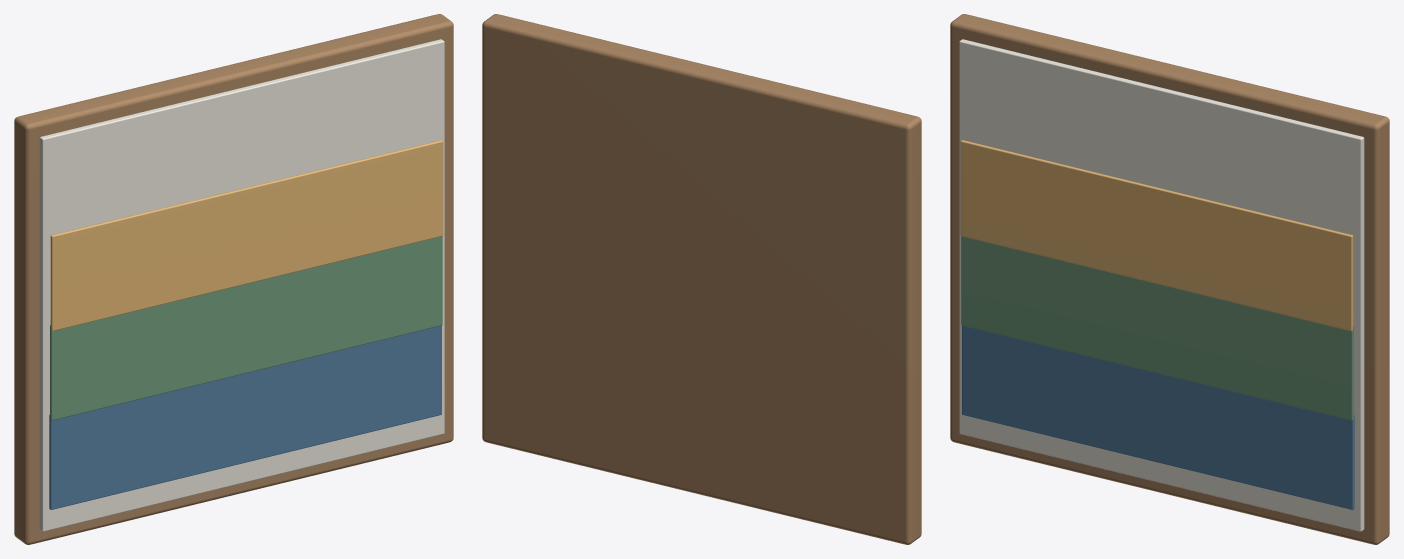
The model's file is atelier-art-print.glb.
3 renders of one model, left to right at view 1: azimuth 30°, elevation 25°; view 2: azimuth 150°, elevation 25°; view 3: azimuth 330°, elevation 25°, orthographic.
Visible parts, largest first — view 1: ceramic.024, artGold.006, artBlue.007, artGreen.007, legs.116; view 2: legs.116; view 3: ceramic.024, artGold.006, artBlue.007, artGreen.007, legs.116.
Boxes of the visible parts, box(x1,y1,x2,y2) form: ceramic.024: box(39, 39, 444, 531); artGold.006: box(50, 140, 443, 331); artBlue.007: box(49, 325, 441, 509); artGreen.007: box(50, 236, 442, 420); legs.116: box(14, 14, 453, 544); legs.116: box(482, 14, 921, 544); ceramic.024: box(959, 39, 1364, 531); artGold.006: box(960, 140, 1353, 331); artBlue.007: box(962, 325, 1354, 509); artGreen.007: box(961, 236, 1353, 420); legs.116: box(950, 14, 1389, 544).
Size of the model in its own units: 0.8 by 0.75 by 0.0675.
